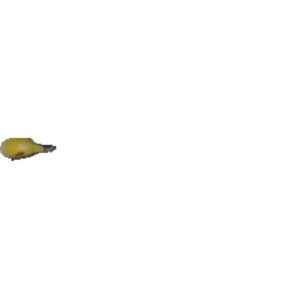banana: (1, 133, 56, 161)
